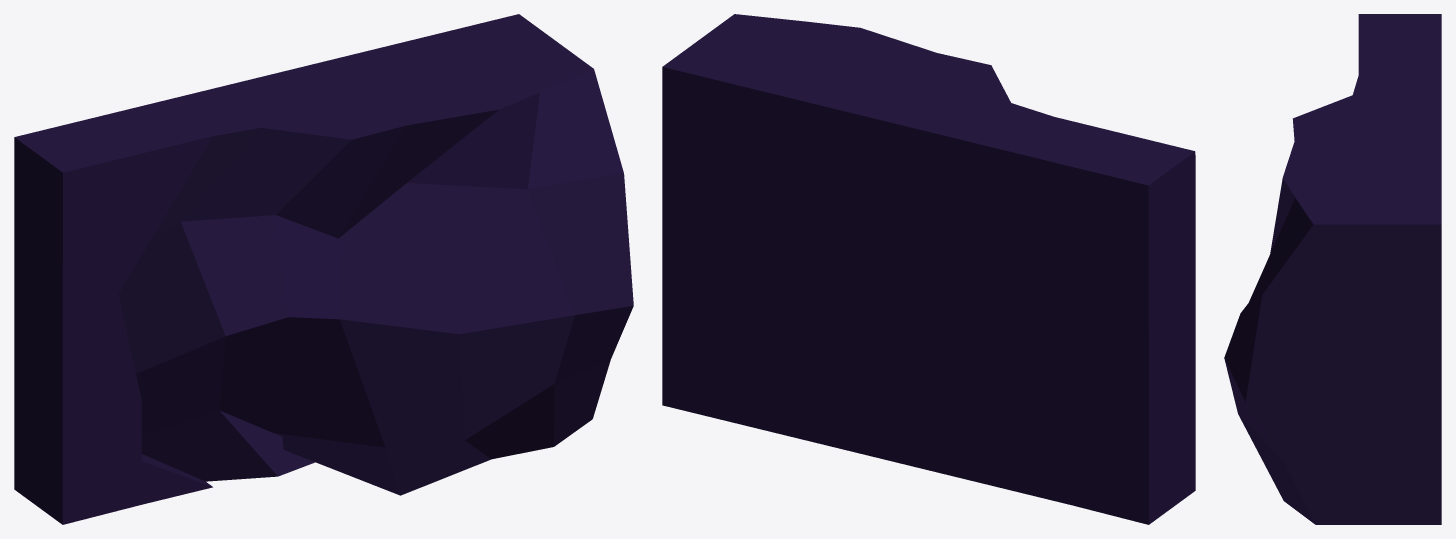
File: cave_corner_bottom_001_msh.fbx
The picture shows the model from 3 angles, left to right: view 1: azimuth 30°, elevation 25°; view 2: azimuth 150°, elevation 25°; view 3: azimuth 270°, elevation 25°; orthographic projection. The views are drawn at different scales.
Visible parts, largest first — view 1: cave_corner_bottom_001_msh; view 2: cave_corner_bottom_001_msh; view 3: cave_corner_bottom_001_msh.
Boxes of the visible parts, x1,y1,x2,y2 form: cave_corner_bottom_001_msh: (14,14,633,524); cave_corner_bottom_001_msh: (662,14,1195,524); cave_corner_bottom_001_msh: (1224,14,1441,524).
Size of the model in its own units: 600 by 400 by 262.
